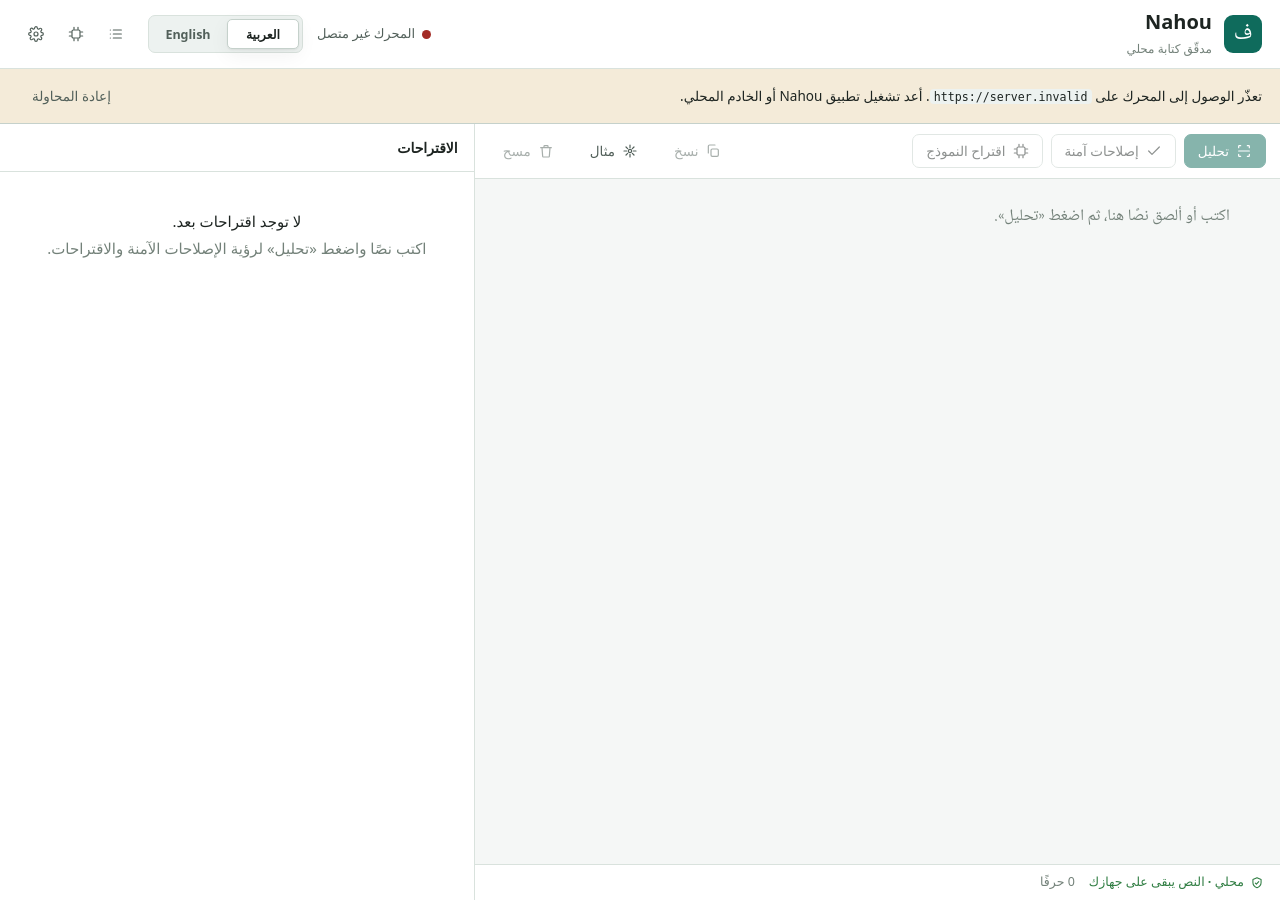
API unavailable state › shows an offline banner and an actionable analyze error
The image size is (1280, 900).
Expected: the element with test id "health" shows "غير متصل", [317,24,415,42]
What coordinates should you click on to do the following:
click the button "مثال"
I would click on:
 (614, 151)
Its box is [576,134,652,168].
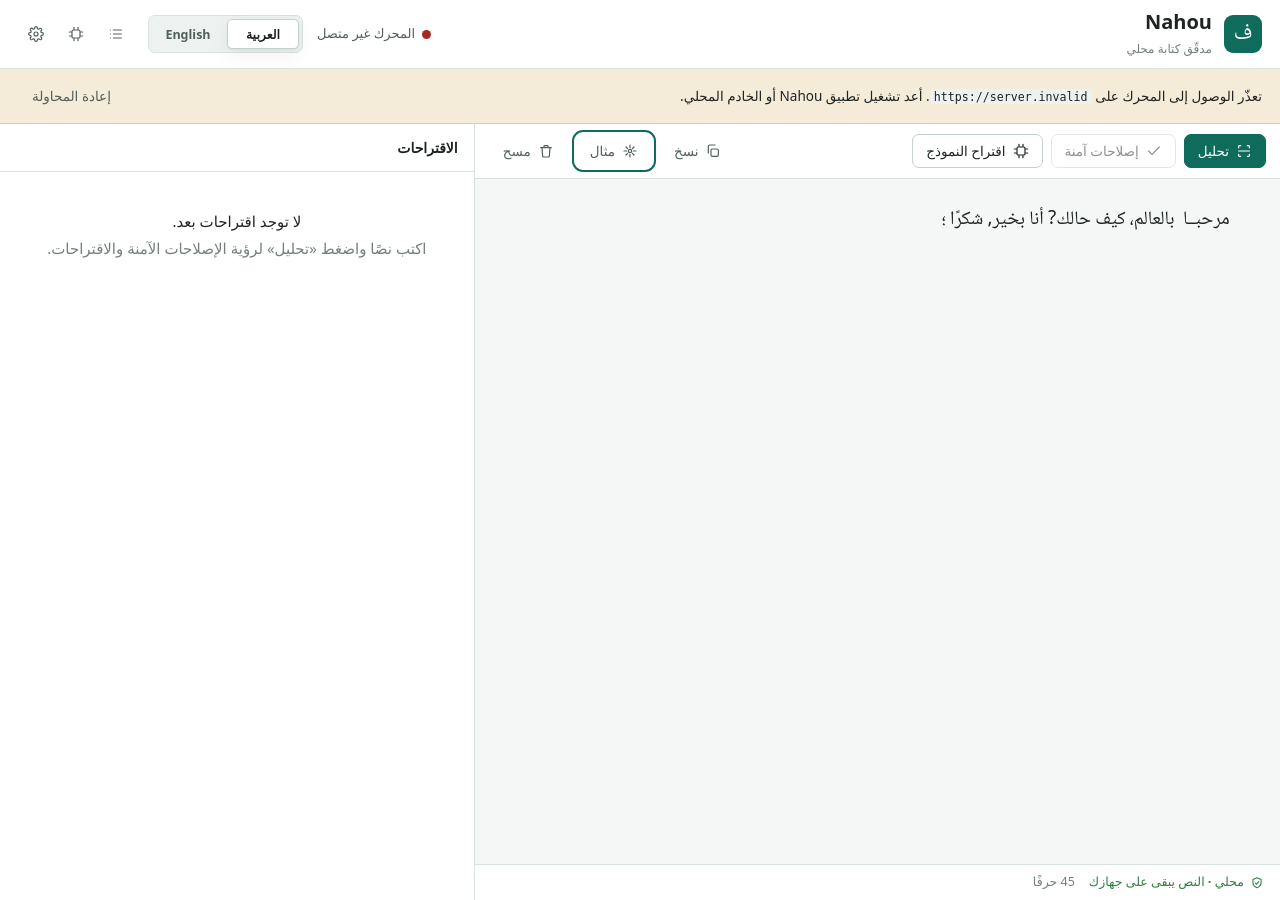
What coordinates should you click on to do the following:
click the button "تحليل"
I would click on:
 (1225, 151)
Its box is [1184,134,1266,168].
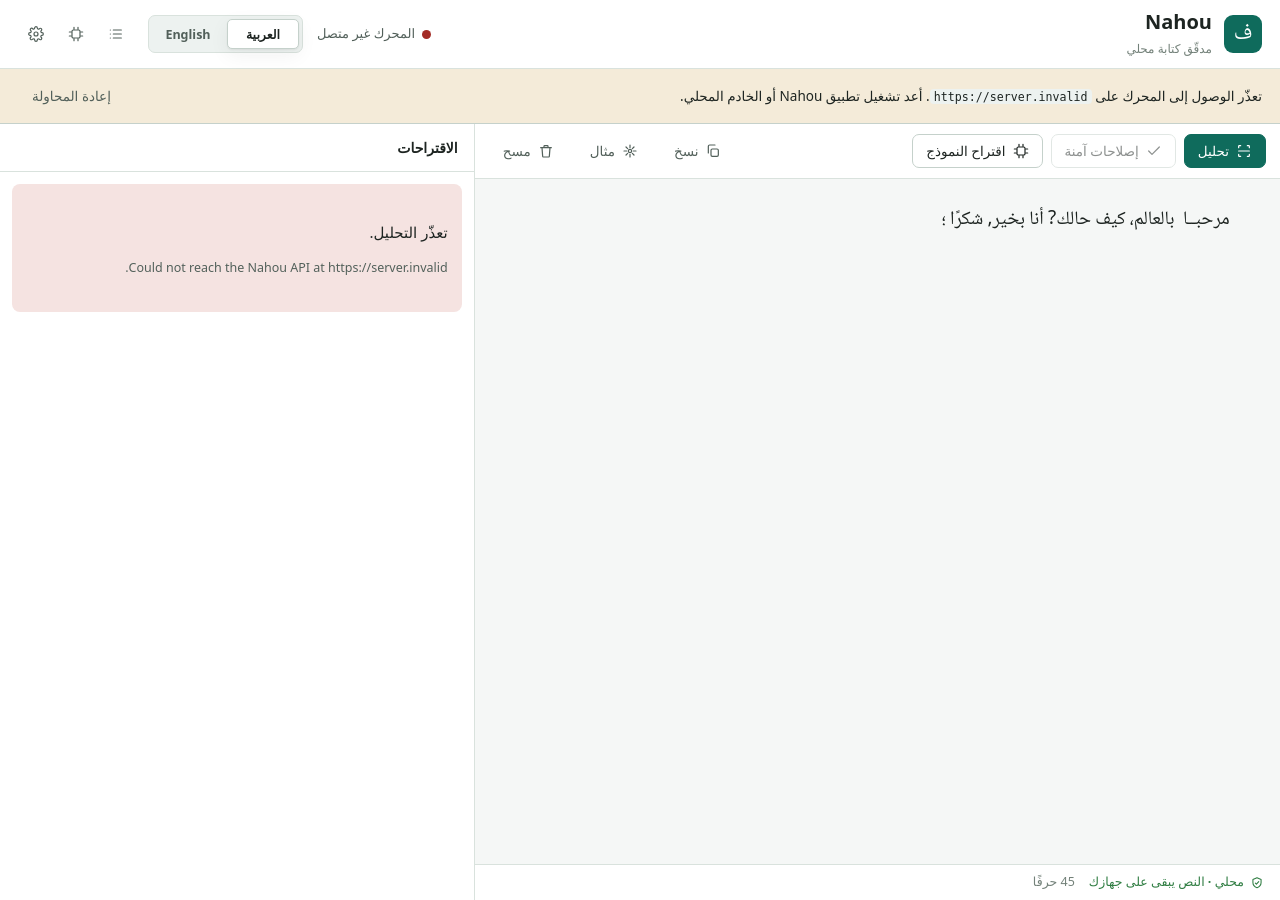
Expected: the text "تعذّر التحليل." is shown, [370,222,448,242]
